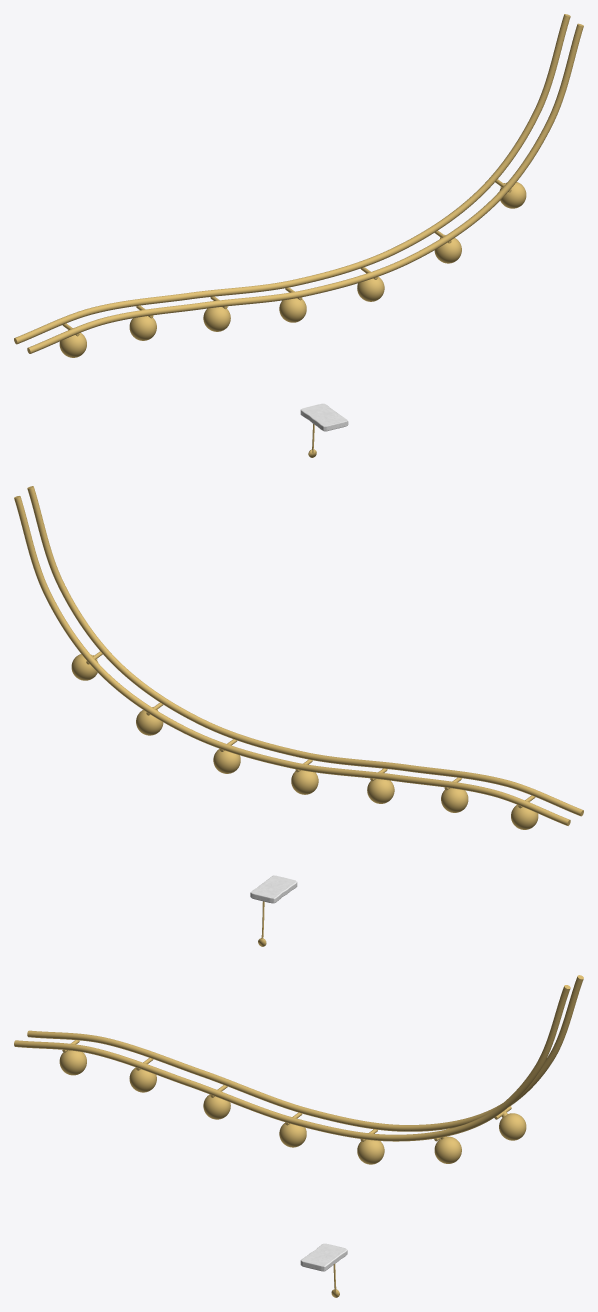
Rendered from reference_music_machine.glb.
3 views of the same model, one above another, from view 1: azimuth 30°, elevation 25°; view 2: azimuth 150°, elevation 25°; view 3: azimuth 330°, elevation 25° (orthographic).
Parts seen in each view (by area): view 1: SlideRails, SlideFittings, Board; view 2: SlideRails, SlideFittings, Board; view 3: SlideRails, SlideFittings, Board.
Boxes of the visible parts, x1=… form: SlideRails: x1=14, y1=14, x2=583, y2=353; SlideFittings: x1=59, y1=179, x2=526, y2=357; Board: x1=300, y1=403, x2=348, y2=431; SlideRails: x1=14, y1=486, x2=583, y2=825; SlideFittings: x1=71, y1=651, x2=538, y2=829; Board: x1=250, y1=875, x2=297, y2=903; SlideRails: x1=14, y1=975, x2=583, y2=1141; SlideFittings: x1=59, y1=1040, x2=526, y2=1164; Board: x1=300, y1=1243, x2=347, y2=1271.
Size of the model in its own units: 6.53 by 4.34 by 0.5.
Materials: 2 (1 with a texture image).
